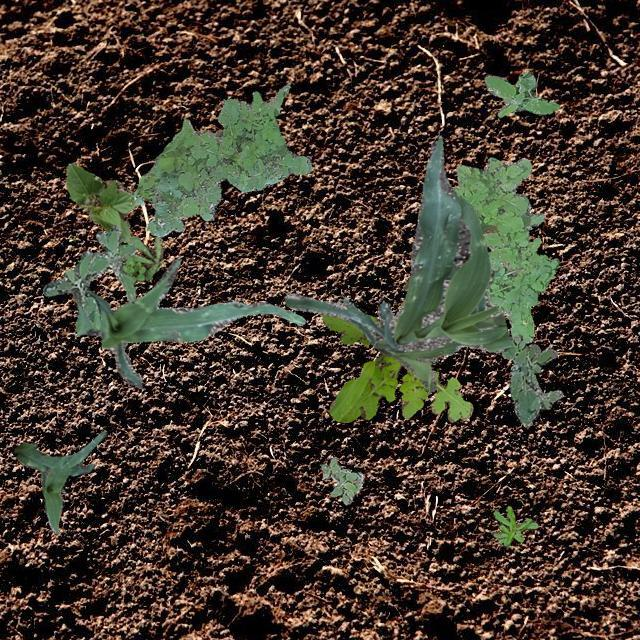crop: (284, 134, 511, 392), (74, 258, 304, 388), (14, 430, 106, 532), (402, 223, 496, 290), (64, 162, 136, 242)
weed: (128, 81, 310, 236), (452, 156, 558, 342), (319, 313, 472, 421), (42, 225, 136, 328), (501, 334, 562, 424), (483, 70, 558, 116), (320, 456, 362, 504), (120, 235, 162, 282), (492, 504, 536, 546)
